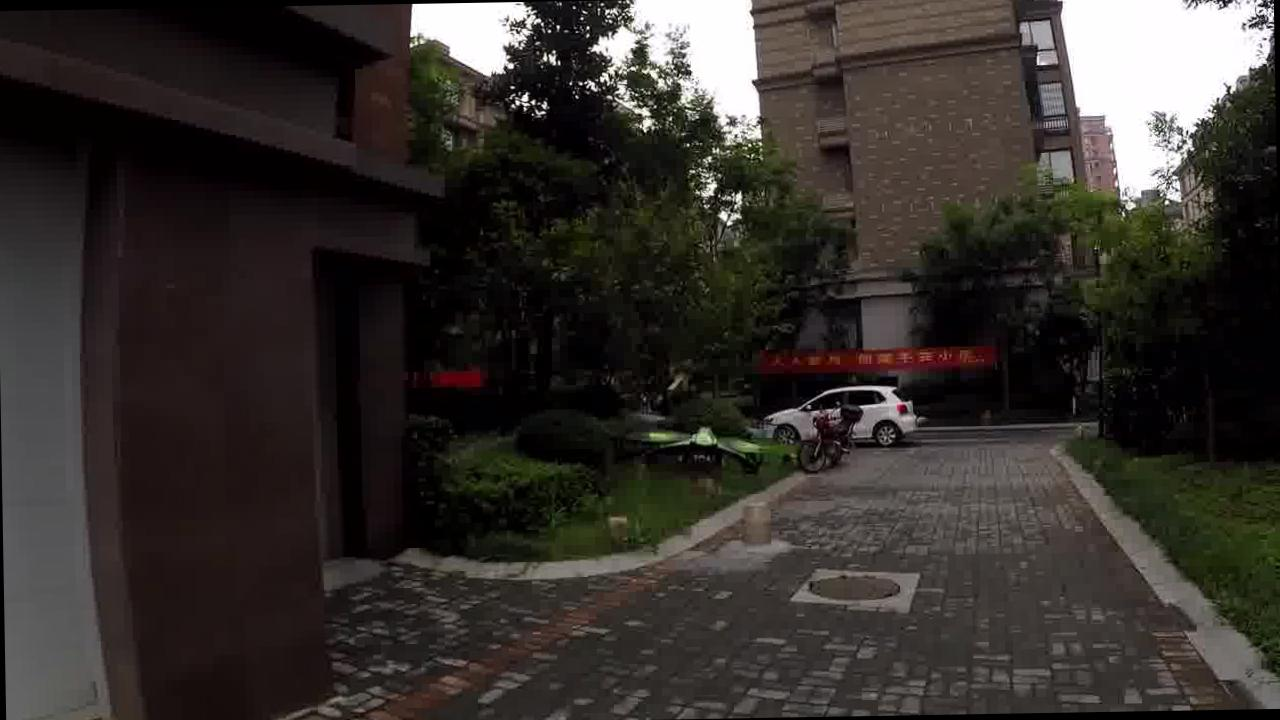drone: (605, 421, 810, 485)
